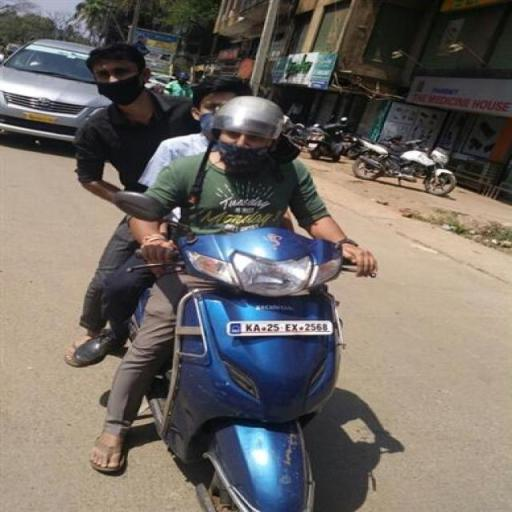tripple riding: (62, 38, 389, 360)
